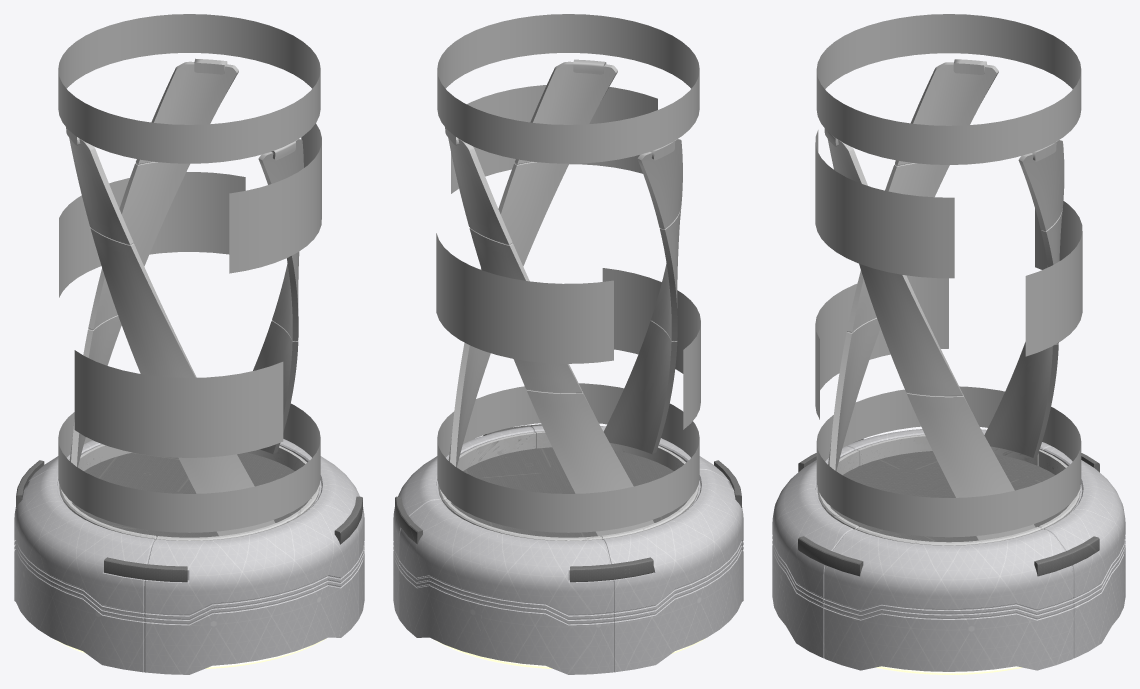
File: K051_高科技街道_31.fbx
3 views of the same model, side by side, from view 1: azimuth 30°, elevation 25°; view 2: azimuth 150°, elevation 25°; view 3: azimuth 270°, elevation 25° (orthographic).
Parts seen in each view (by area): view 1: KB3D_HTS_BldgSM_F_HoloA, KB3D_HTS_BldgSM_F_Main, KB3D_HTS_BldgSM_F_Screen; view 2: KB3D_HTS_BldgSM_F_HoloA, KB3D_HTS_BldgSM_F_Main, KB3D_HTS_BldgSM_F_Screen; view 3: KB3D_HTS_BldgSM_F_Main, KB3D_HTS_BldgSM_F_HoloA, KB3D_HTS_BldgSM_F_Screen.
Part boxes in pixels (x1,y1,x2,y2): KB3D_HTS_BldgSM_F_HoloA: (58, 14, 321, 532); KB3D_HTS_BldgSM_F_Main: (14, 439, 364, 674); KB3D_HTS_BldgSM_F_Screen: (66, 58, 303, 536); KB3D_HTS_BldgSM_F_HoloA: (436, 14, 700, 532); KB3D_HTS_BldgSM_F_Main: (393, 424, 743, 674); KB3D_HTS_BldgSM_F_Screen: (445, 59, 682, 536); KB3D_HTS_BldgSM_F_Main: (772, 429, 1125, 674); KB3D_HTS_BldgSM_F_HoloA: (815, 14, 1082, 537); KB3D_HTS_BldgSM_F_Screen: (824, 59, 1064, 540).
Size of the model in its own units: 1.67 by 2.79 by 1.67.
